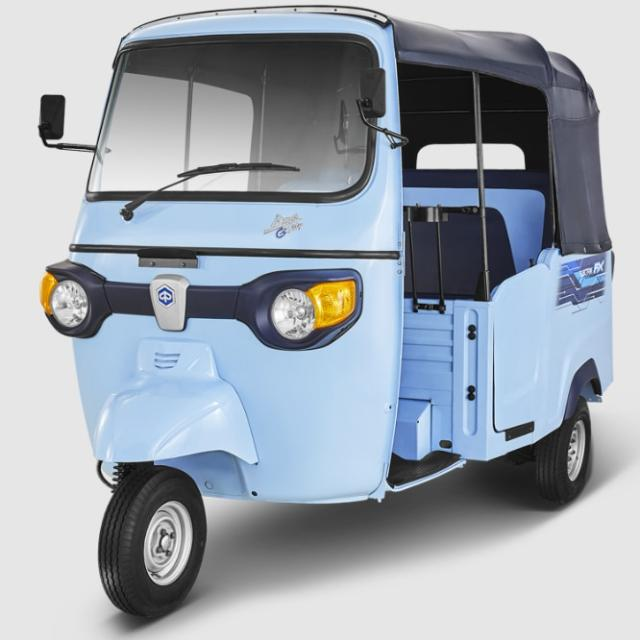autorickshaw: (39, 6, 614, 617)
